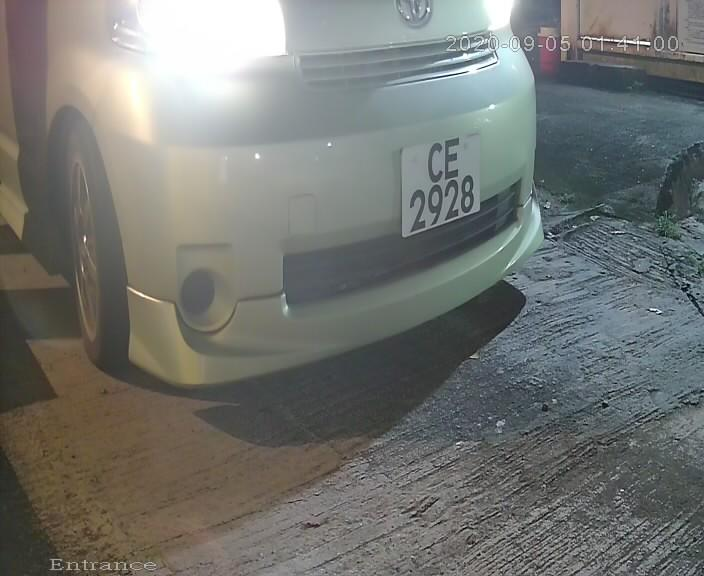License Plate: (392, 117, 487, 246)
